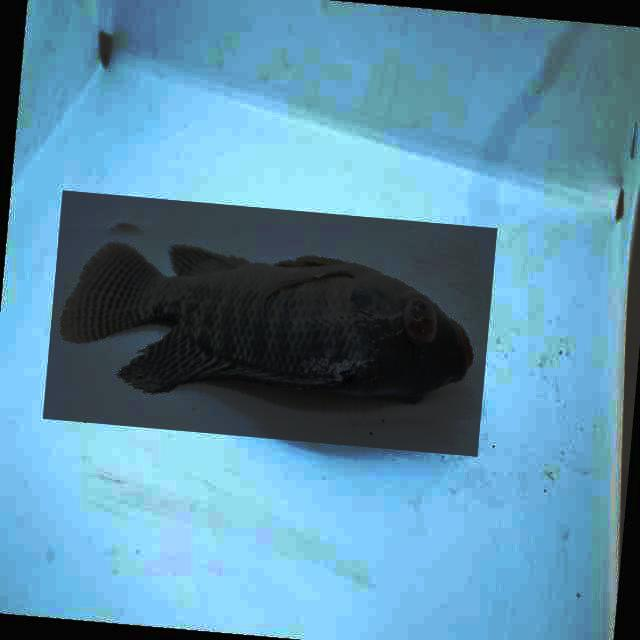Streptococcus: (62, 246, 473, 403)
